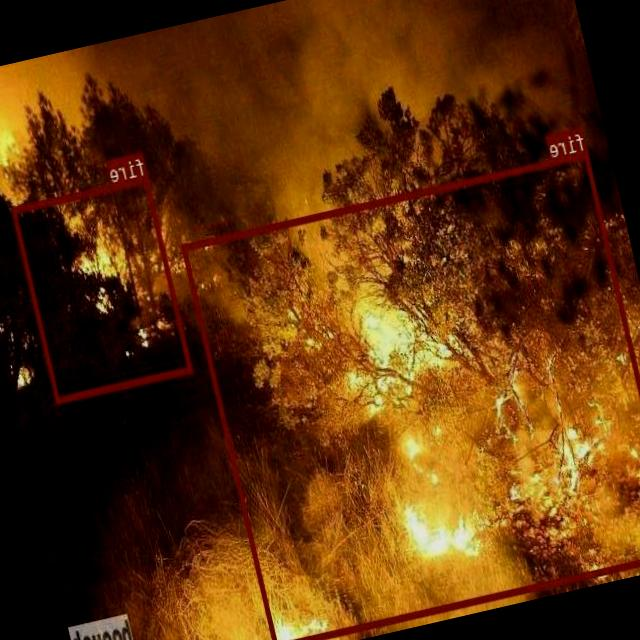fire: (182, 150, 640, 640), (12, 175, 194, 402)
